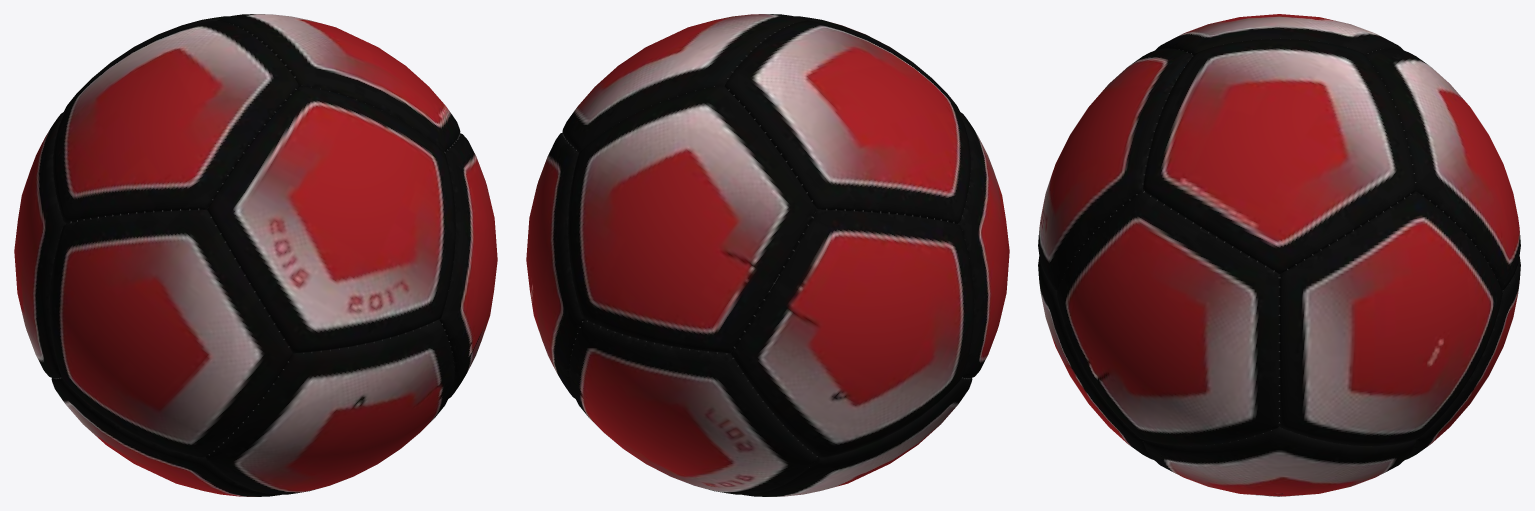
File: RedBall.glb
3 views of the same model, side by side, from view 1: azimuth 30°, elevation 25°; view 2: azimuth 150°, elevation 25°; view 3: azimuth 270°, elevation 25° (orthographic).
Visible parts, largest first — view 1: Ball_Premier; view 2: Ball_Premier; view 3: Ball_Premier.
Boxes of the visible parts, box(x1,y1,x2,y2) form: Ball_Premier: box(14, 14, 497, 496); Ball_Premier: box(526, 14, 1009, 496); Ball_Premier: box(1038, 14, 1520, 496).
Size of the model in its own units: 0.2496 by 0.2499 by 0.2496.
1 material, 1 textured.
